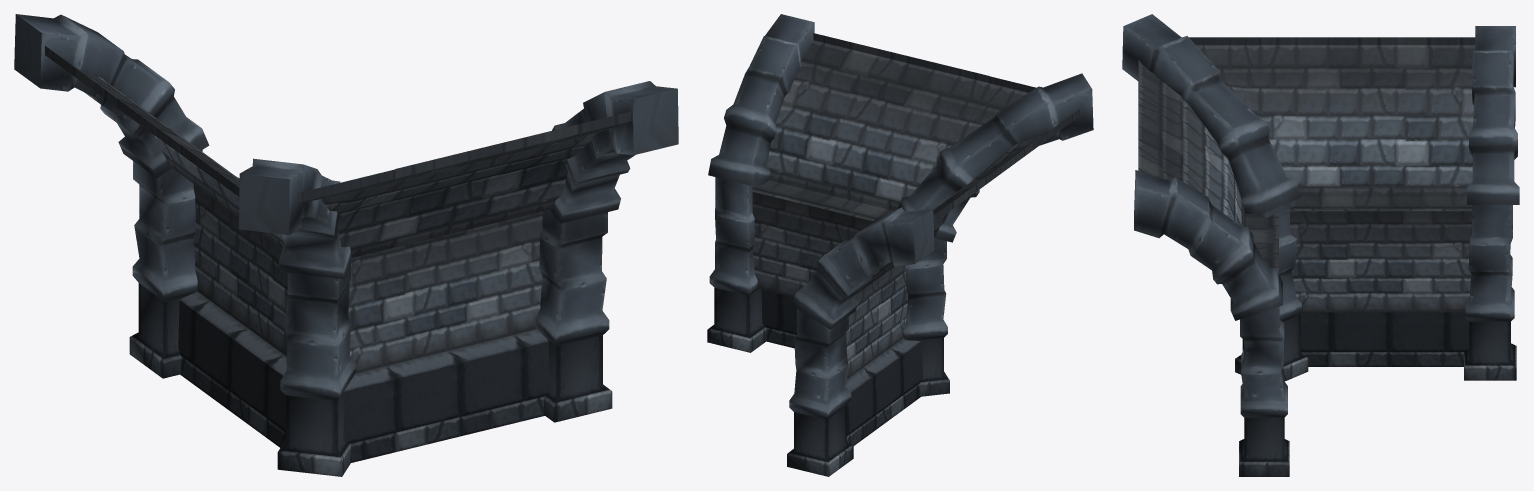
Rendered from wall dungeon-corner1.FBX.
3 renders of one model, left to right at view 1: azimuth 30°, elevation 25°; view 2: azimuth 150°, elevation 25°; view 3: azimuth 270°, elevation 25°, orthographic. The views are drawn at different scales.
Parts seen in each view (by area): view 1: wall dungeon-corner1; view 2: wall dungeon-corner1; view 3: wall dungeon-corner1.
Boxes of the visible parts, x1,y1,x2,y2 form: wall dungeon-corner1: [14, 14, 678, 476]; wall dungeon-corner1: [707, 14, 1093, 476]; wall dungeon-corner1: [1122, 14, 1519, 476].
Size of the model in its own units: 852 by 716 by 862.
